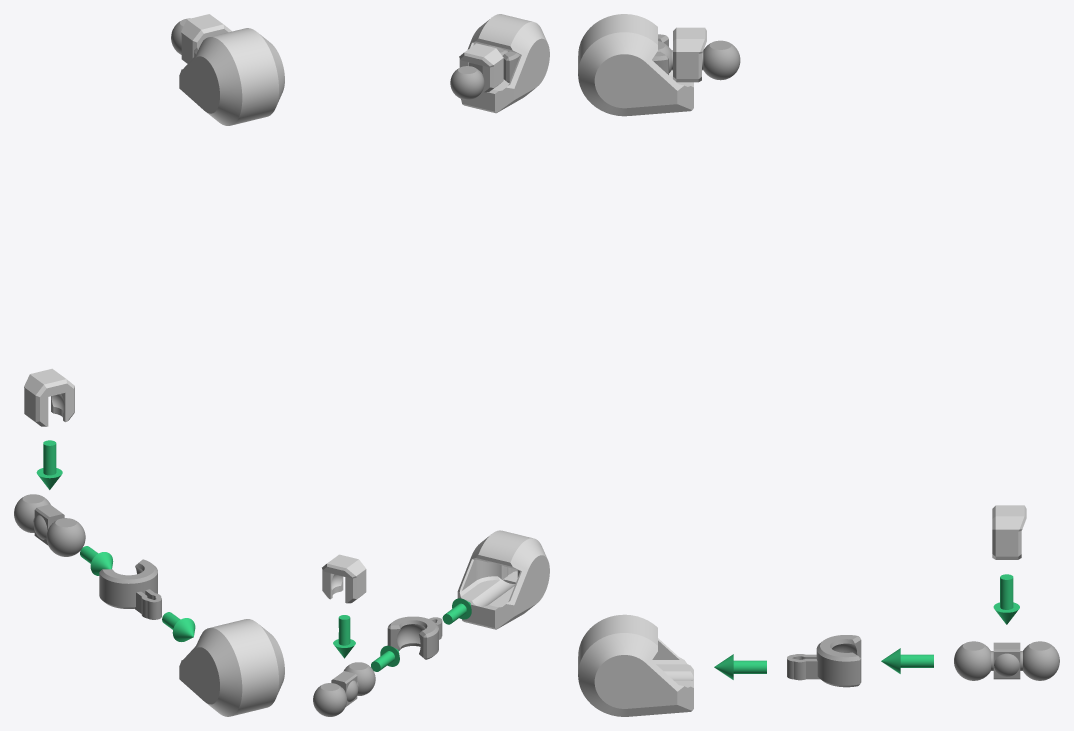
The model's file is head_neck.glb.
The picture shows the model from 3 angles, left to right: view 1: azimuth 30°, elevation 25°; view 2: azimuth 150°, elevation 25°; view 3: azimuth 270°, elevation 25°; orthographic projection. The views are drawn at different scales.
Visible parts, largest first — view 1: Body1.002, Body1.005, Body1.003, Body1.004, Body2.001, Body2, Arrow (1) (1), Arrow, Arrow (1); view 2: Body1.005, Body1.002, Body1.003, Body1.004, Body2.001, Body2, Body1, Arrow (1) (1), Arrow, Arrow (1); view 3: Body1.005, Body1.002, Body1.003, Body1.004, Body2.001, Body2, Body1, Arrow (1) (1), Arrow, Arrow (1).
Boxes of the visible parts, box(x1,y1,x2,y2) form: Body1.002: box(179, 28, 284, 125); Body1.005: box(179, 619, 284, 716); Body1.003: box(14, 494, 85, 556); Body1.004: box(99, 559, 161, 619); Body2.001: box(24, 368, 74, 426); Body2: box(181, 14, 231, 63); Arrow (1) (1): box(36, 440, 62, 489); Arrow: box(162, 612, 195, 641); Arrow (1): box(80, 546, 113, 575); Body1.005: box(457, 530, 549, 629); Body1.002: box(461, 14, 549, 113); Body1.003: box(313, 662, 375, 716); Body1.004: box(387, 616, 442, 659); Body2.001: box(322, 554, 366, 603); Body2: box(459, 43, 503, 92); Body1: box(450, 46, 508, 99); Arrow (1) (1): box(333, 615, 355, 658); Arrow: box(442, 598, 471, 624); Arrow (1): box(371, 645, 399, 671); Body1.005: box(578, 614, 693, 716); Body1.002: box(578, 14, 693, 116); Body1.003: box(954, 641, 1059, 680); Body1.004: box(787, 635, 861, 687); Body2.001: box(992, 505, 1026, 559); Body2: box(673, 27, 706, 82); Body1: box(657, 40, 740, 80); Arrow (1) (1): box(993, 574, 1019, 624); Arrow: box(714, 654, 766, 679); Arrow (1): box(881, 648, 933, 673).
Bounding box in the file's own units: 11.5 × 114 × 72.69.
